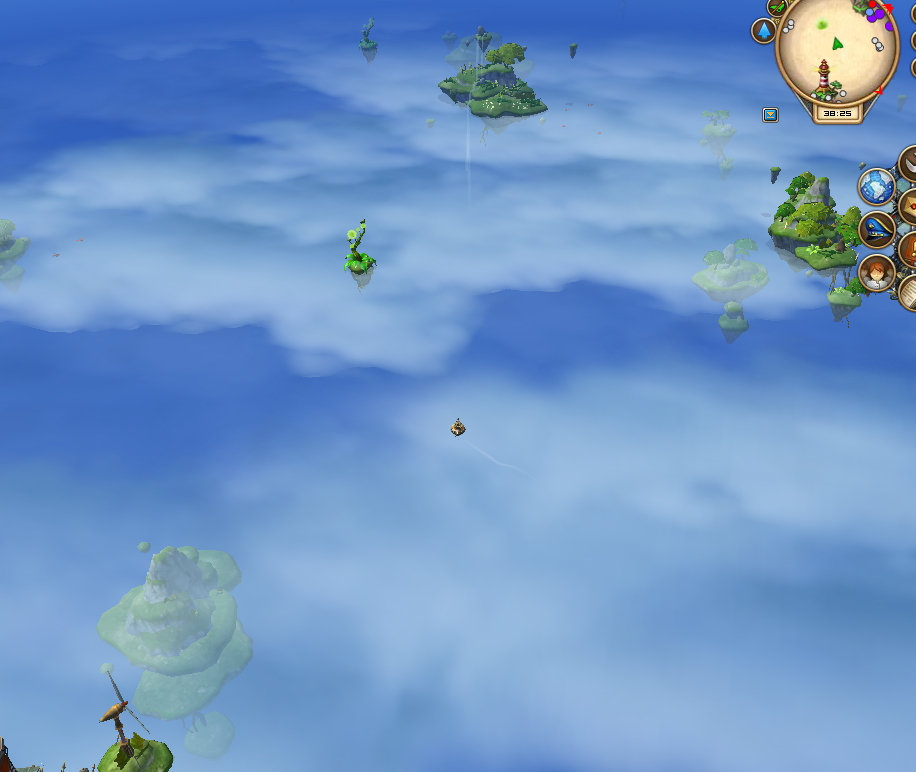dandelion-full: (343, 217, 378, 287), (357, 12, 379, 63)
